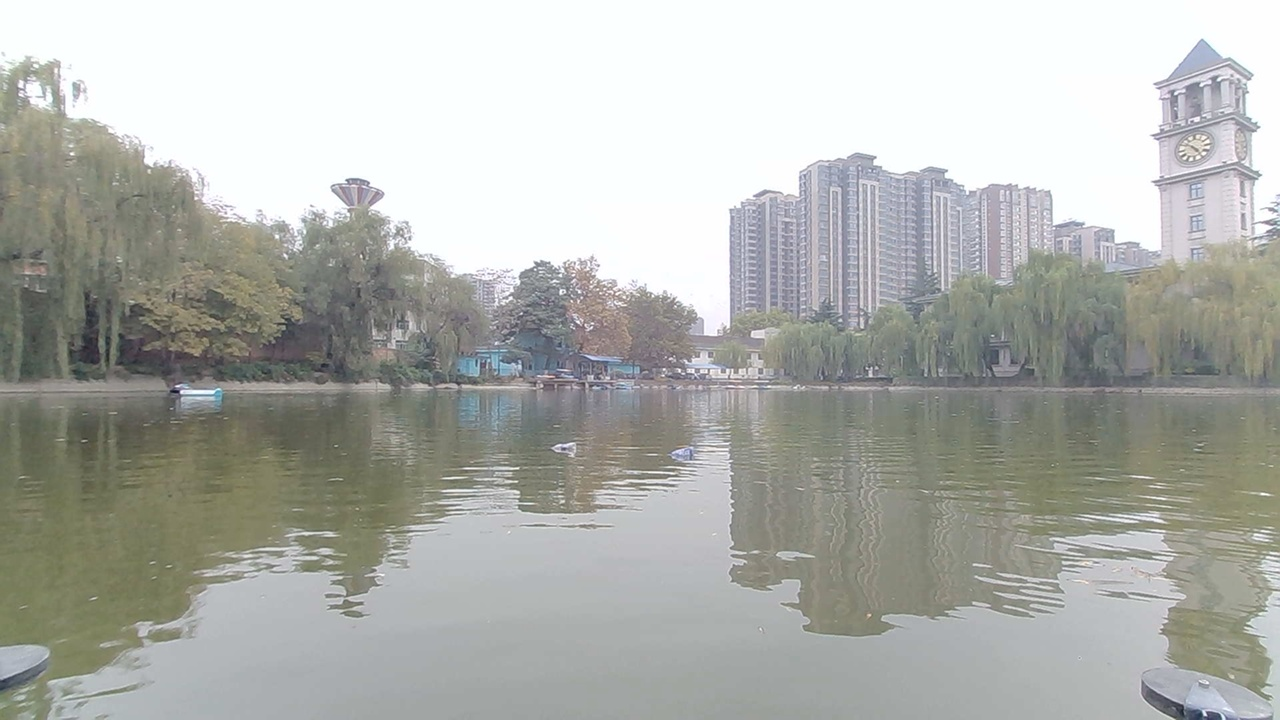bottle: (546, 431, 585, 457), (669, 446, 702, 463)
